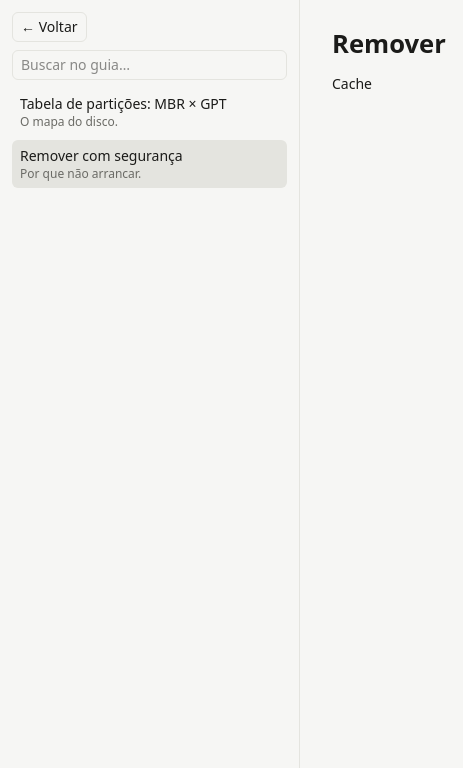
ajuda › mostra o tópico selecionado e a busca filtra o índice
The image size is (463, 768).
expect the text "Cache" is shown: met, box left=332, top=74, right=372, bottom=93
Step 1. Type "mapa" into the field labelled "Buscar no guia" → (150, 65), box left=12, top=50, right=287, bottom=80
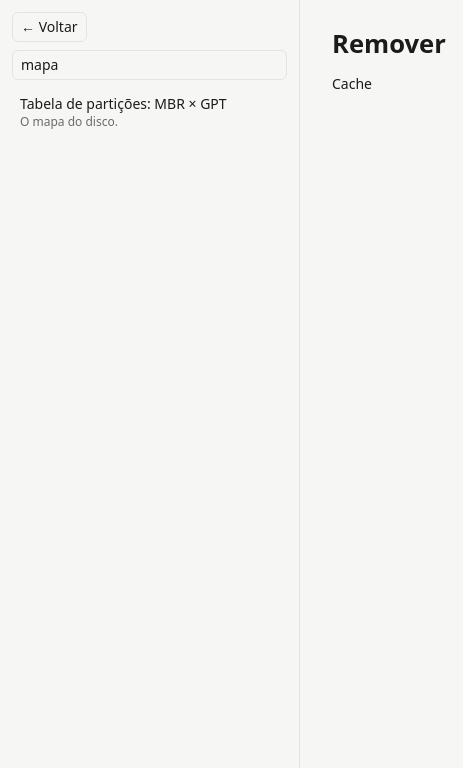
expect the button "Remover com segurança" is gone: met
Step 2. Click the button "Tabela de partições: MBR × GPT O mapa do disco." → click(150, 112), box left=12, top=88, right=287, bottom=136
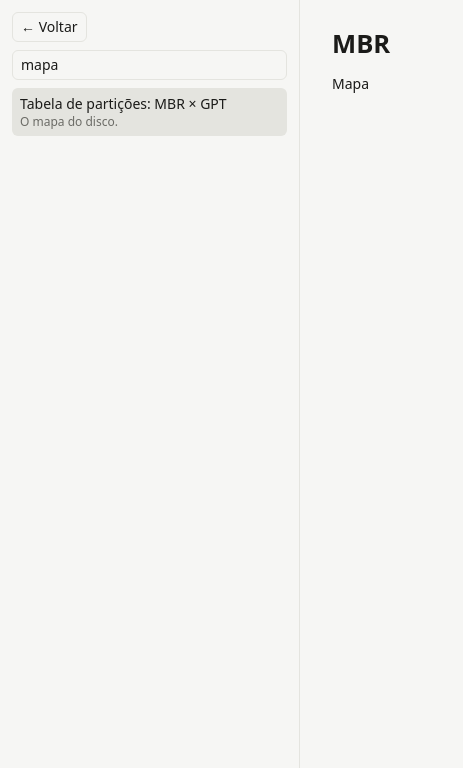
expect the text "Mapa" is shown: met, box left=332, top=74, right=369, bottom=93
